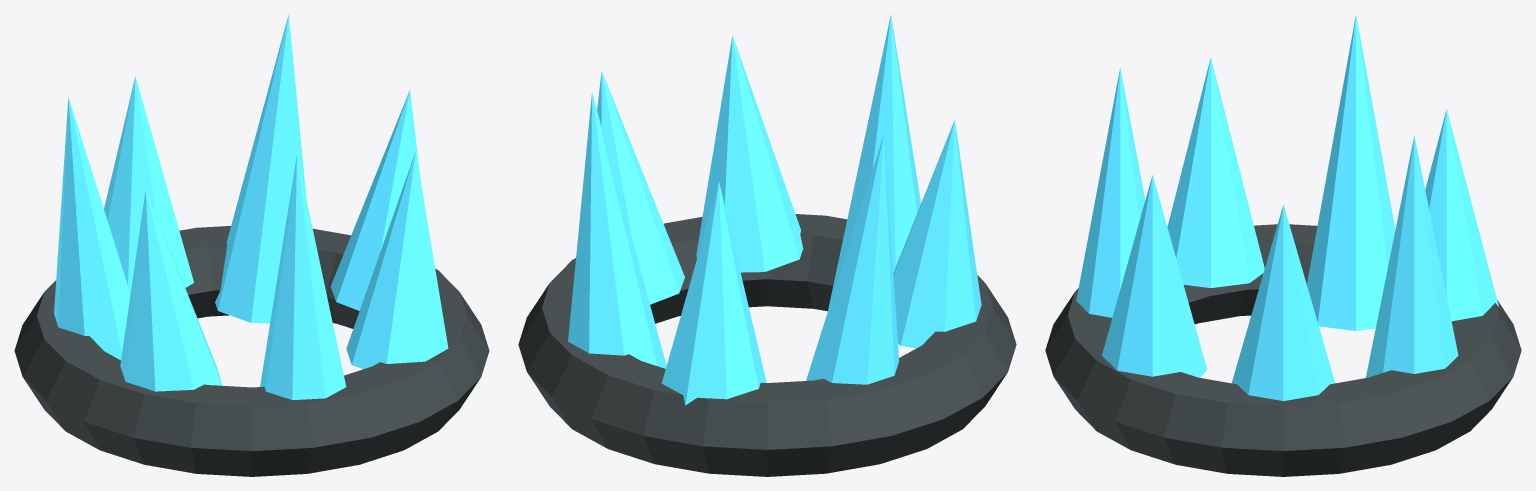
File: acc_icecrown.glb
The picture shows the model from 3 angles, left to right: view 1: azimuth 30°, elevation 25°; view 2: azimuth 150°, elevation 25°; view 3: azimuth 270°, elevation 25°; orthographic projection. The views are drawn at different scales.
Visible parts, largest first — view 1: acc_icecrown_Ice.003, acc_icecrown_RunningGear.008; view 2: acc_icecrown_Ice.003, acc_icecrown_RunningGear.008; view 3: acc_icecrown_Ice.003, acc_icecrown_RunningGear.008.
Part boxes in pixels (x1,y1,x2,y2): acc_icecrown_Ice.003: (54,15,448,400); acc_icecrown_RunningGear.008: (14,226,489,476); acc_icecrown_Ice.003: (568,15,981,405); acc_icecrown_RunningGear.008: (518,214,1016,476); acc_icecrown_Ice.003: (1076,14,1498,400); acc_icecrown_RunningGear.008: (1045,224,1521,476).
Size of the model in its own units: 0.74 by 0.5155 by 0.74.
